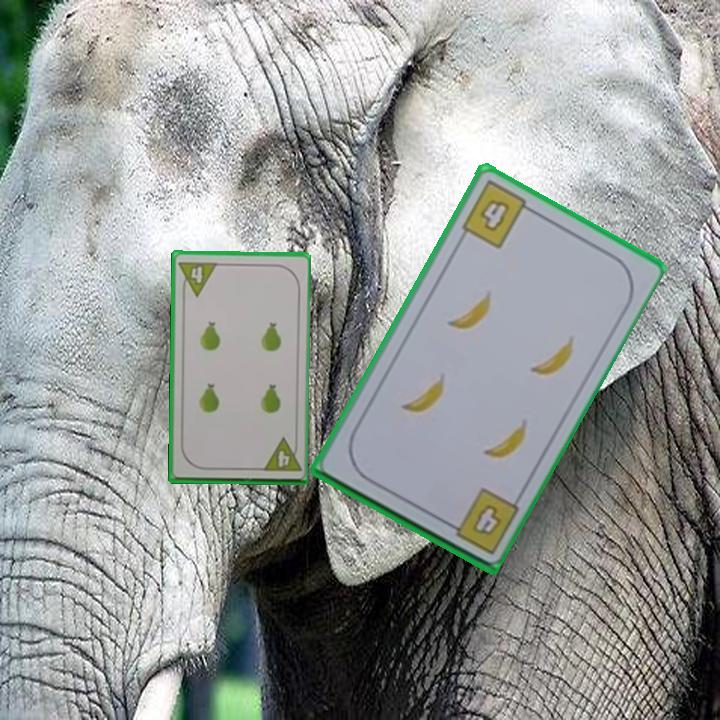4b: (457, 176, 537, 252), (440, 484, 522, 557)
4p: (175, 257, 220, 299), (258, 435, 303, 474)
